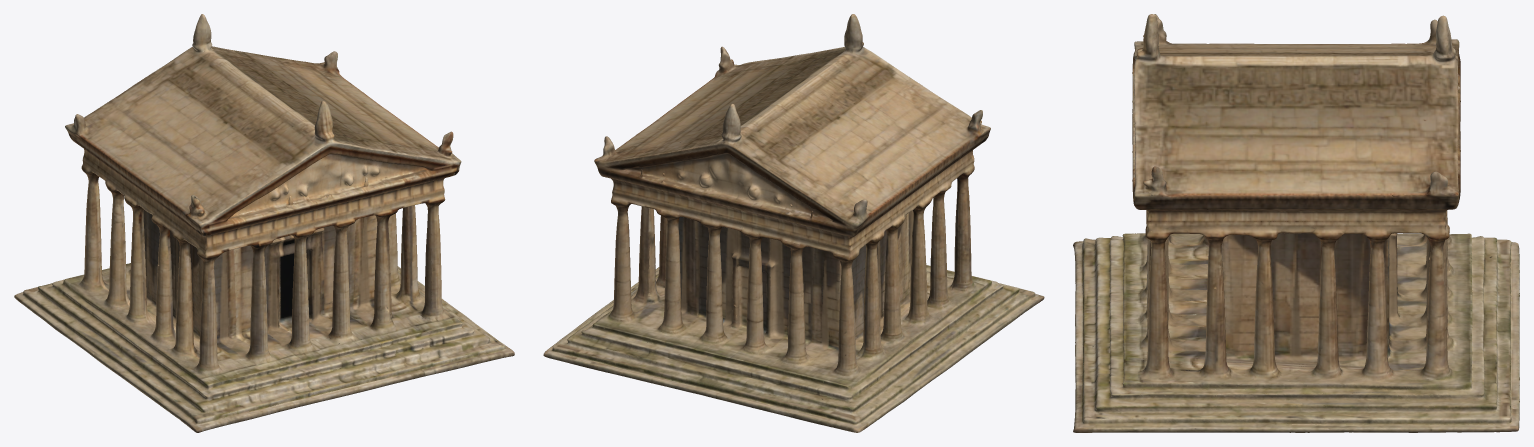
The model's file is greek_temple_of_zeus__1213070840_texture.fbx.
3 views of the same model, side by side, from view 1: azimuth 30°, elevation 25°; view 2: azimuth 150°, elevation 25°; view 3: azimuth 270°, elevation 25° (orthographic). The views are drawn at different scales.
Visible parts, largest first — view 1: Mesh1_Mesh1.029; view 2: Mesh1_Mesh1.029; view 3: Mesh1_Mesh1.029.
Part boxes in pixels (bbox=[...]): Mesh1_Mesh1.029: bbox=[14, 14, 514, 432]; Mesh1_Mesh1.029: bbox=[543, 14, 1044, 432]; Mesh1_Mesh1.029: bbox=[1073, 14, 1519, 432].
Size of the model in its own units: 201 by 162 by 201.
Materials: 1 (1 with a texture image).
